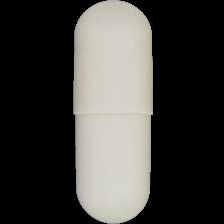0093-7370: (0, 0, 224, 224)
